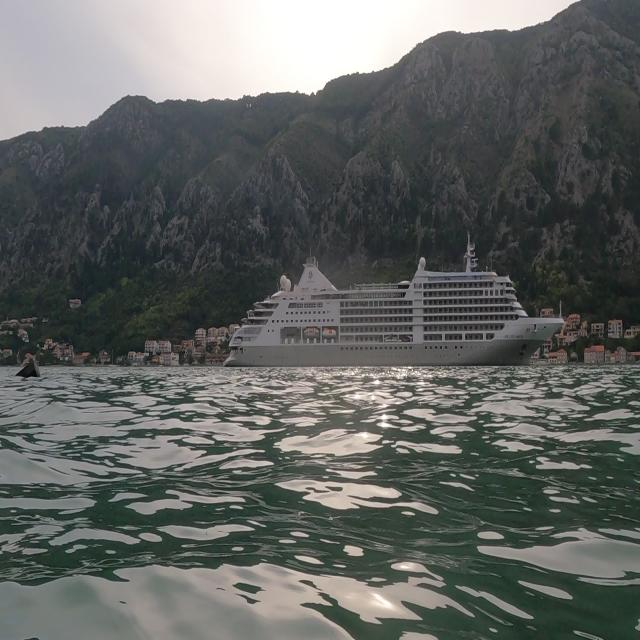boat: (222, 229, 566, 370)
buoy: (12, 346, 45, 390)
